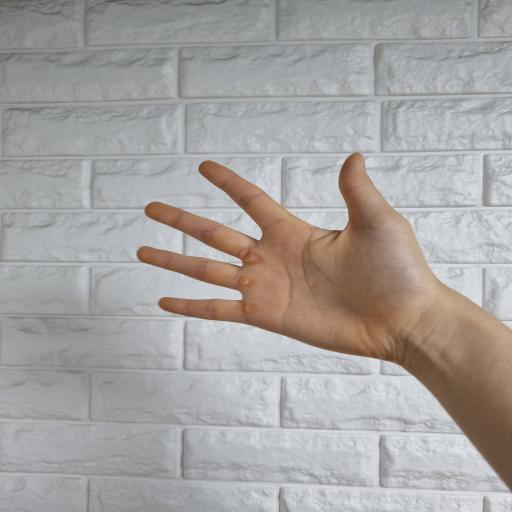Paper: (136, 153, 444, 363)
